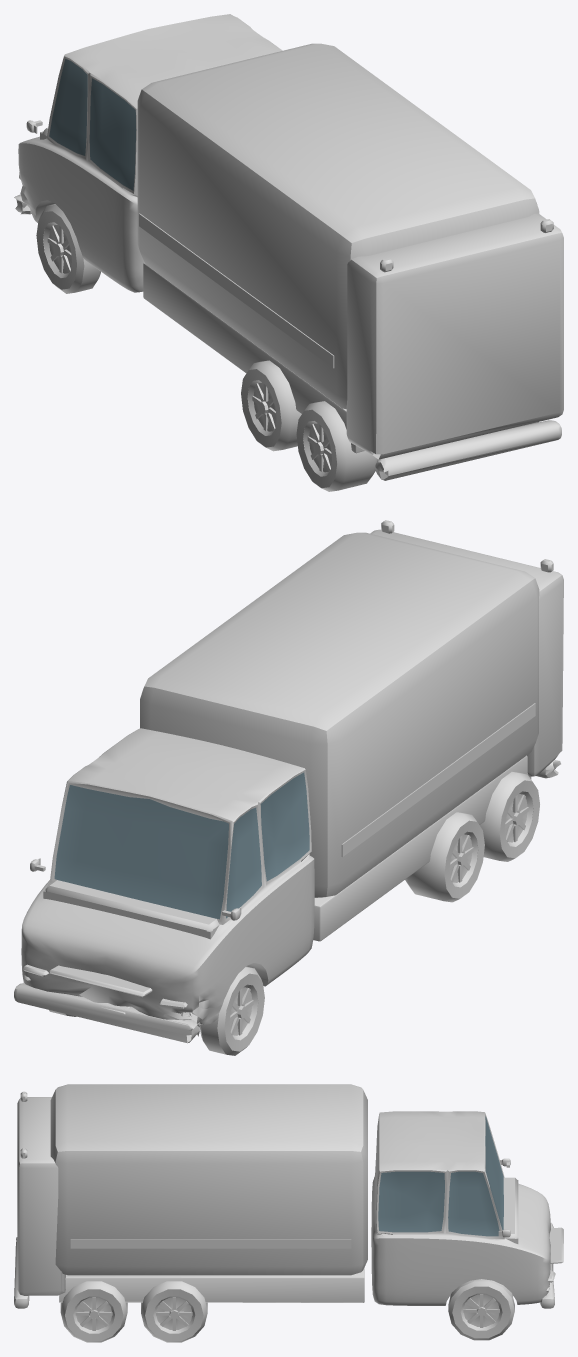
The model's file is car_garbage_dmg2.glb.
3 views of the same model, one above another, from view 1: azimuth 30°, elevation 25°; view 2: azimuth 150°, elevation 25°; view 3: azimuth 270°, elevation 25° (orthographic). The views are drawn at different scales.
Visible parts, largest first — view 1: car_garbage_dmg2; view 2: car_garbage_dmg2; view 3: car_garbage_dmg2.
Boxes of the visible parts, bbox=[...] form: car_garbage_dmg2: bbox=[14, 14, 563, 491]; car_garbage_dmg2: bbox=[14, 520, 563, 1055]; car_garbage_dmg2: bbox=[14, 1084, 563, 1342].
Size of the model in its own units: 2.6 by 3.24 by 8.23.
